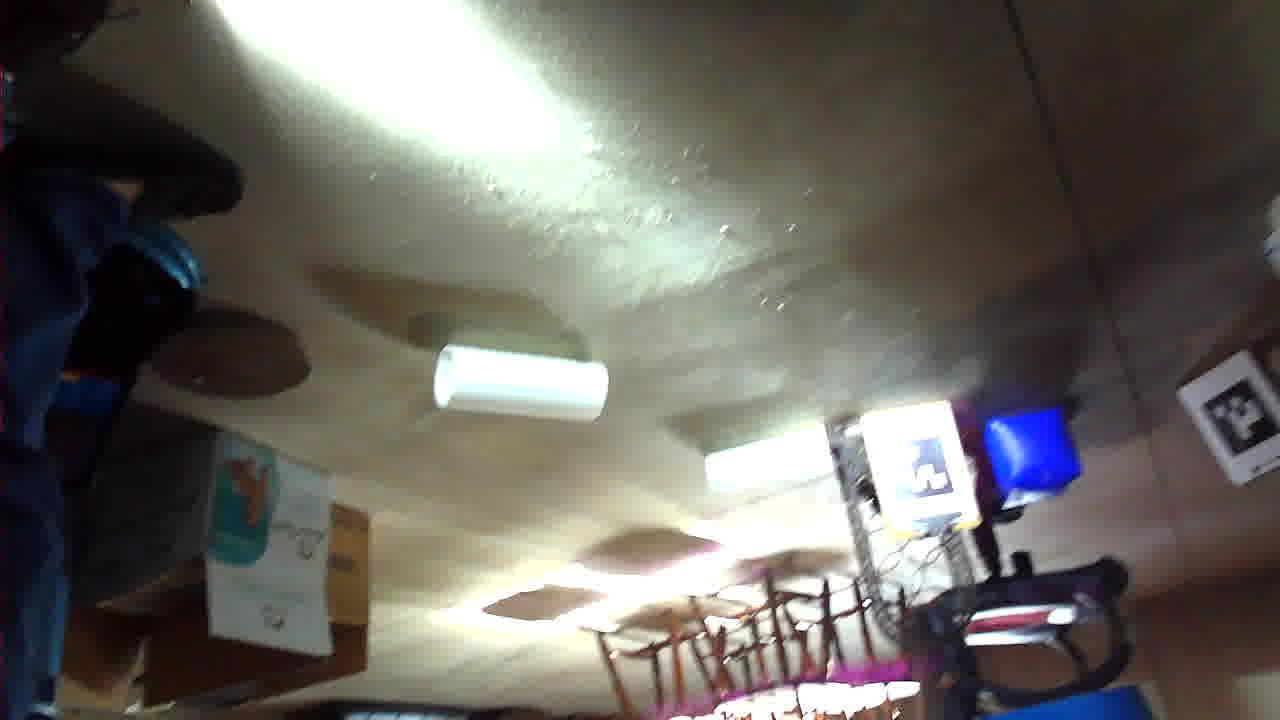coral: (673, 297, 846, 375), (446, 224, 574, 297)
